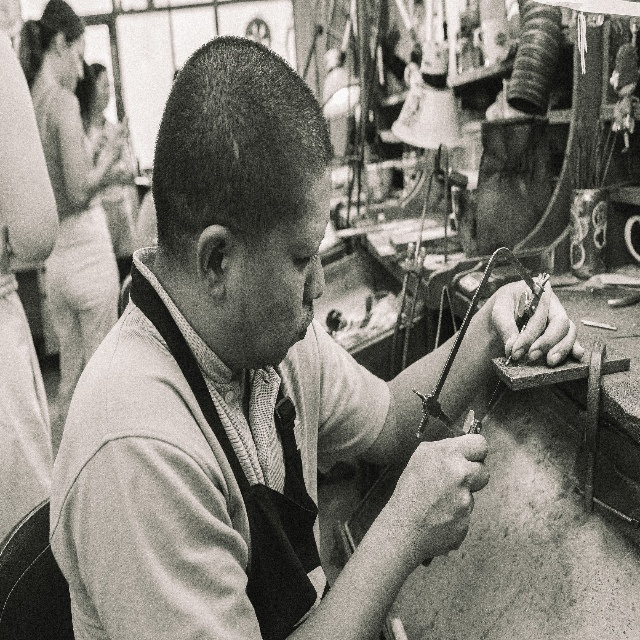Sin_guantes: (393, 431, 489, 563), (490, 273, 587, 365)
